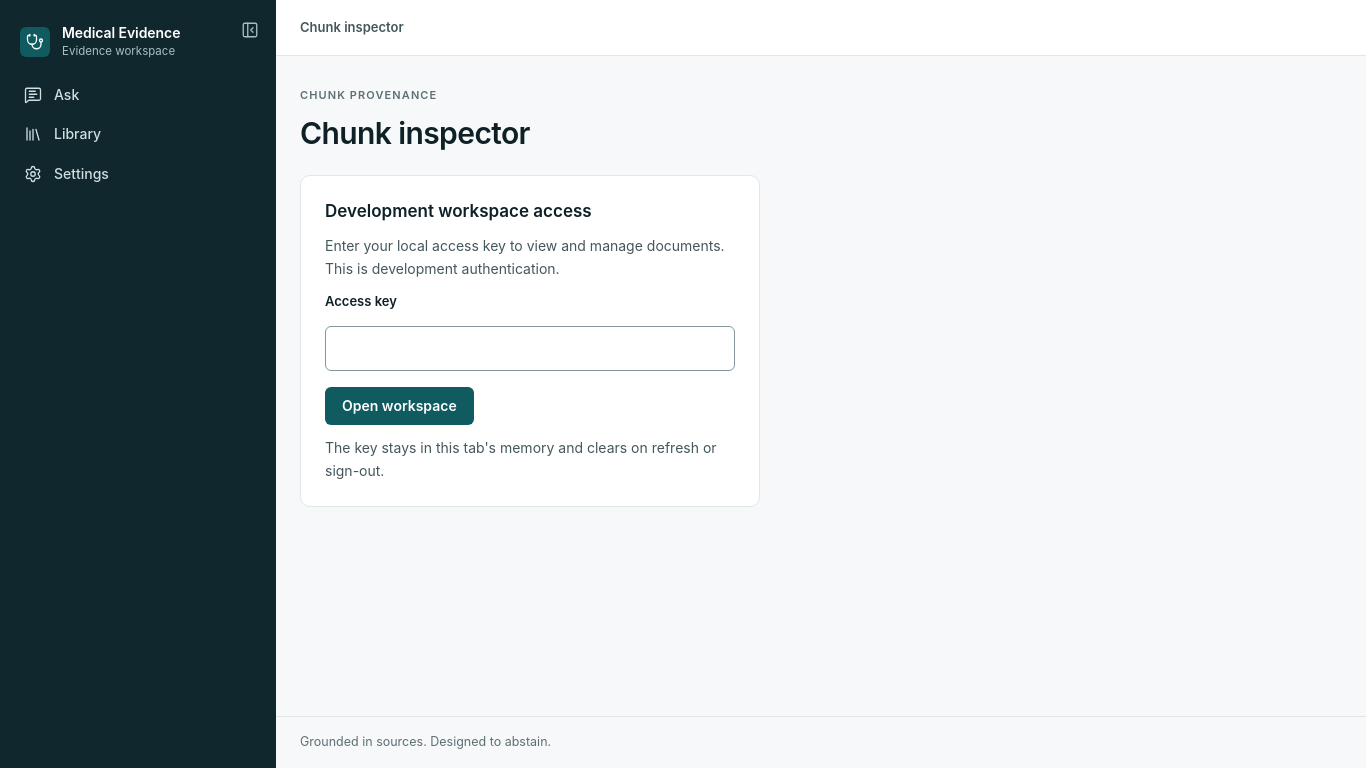
it: where to start › opens a stopped passage set on its findings, with the blocker counted apart from warnings
In the password field labelled "Access key": [530, 349] box top-left (325, 326), bottom-right (735, 371), type "k"
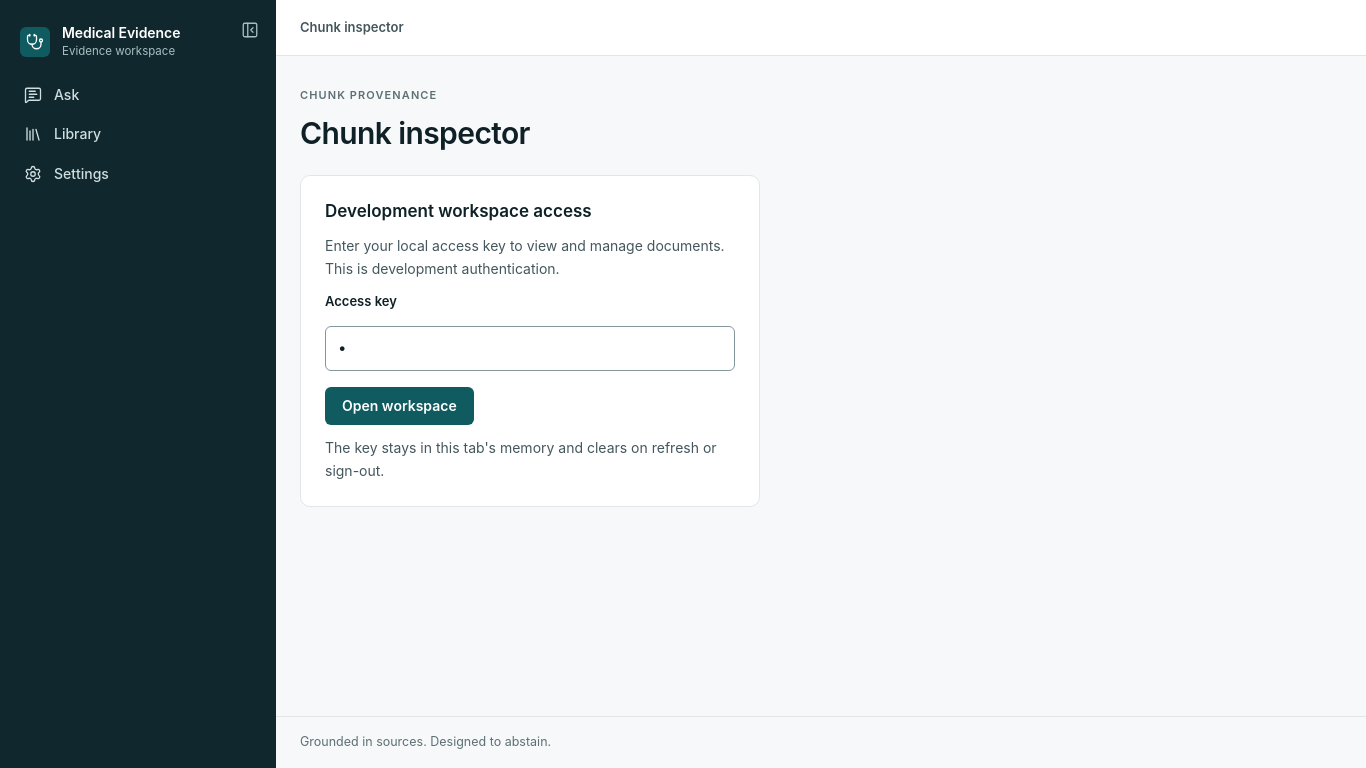
Click the button "Open workspace": [399, 406] box top-left (325, 387), bottom-right (474, 425)
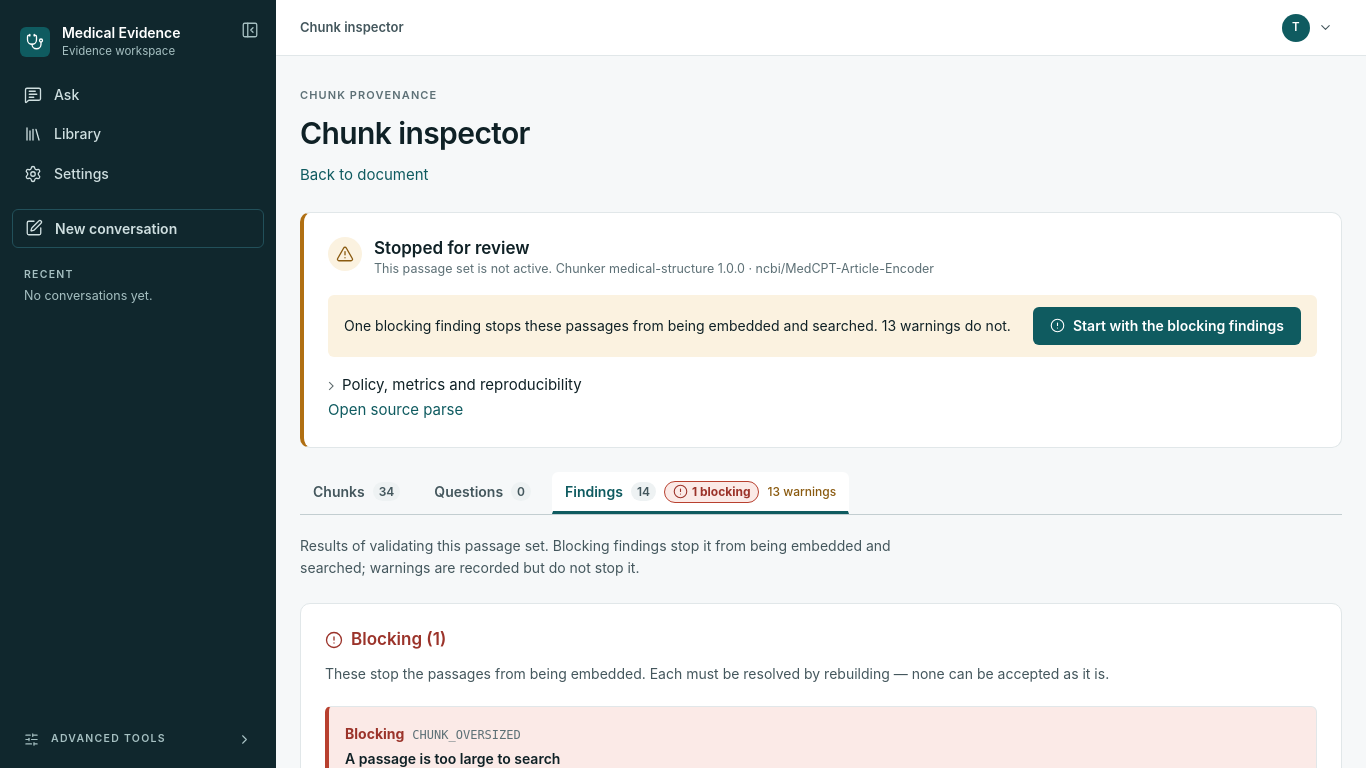
Expected: the button named "Account and workspace" is shown, top-left (1277, 8), bottom-right (1342, 46)
Expected: the tab "Findings 14 1 blocking 13 warnings" is shown, top-left (552, 472), bottom-right (849, 514)
Expected: the tab "Chunks 34" is shown, top-left (300, 472), bottom-right (413, 514)
